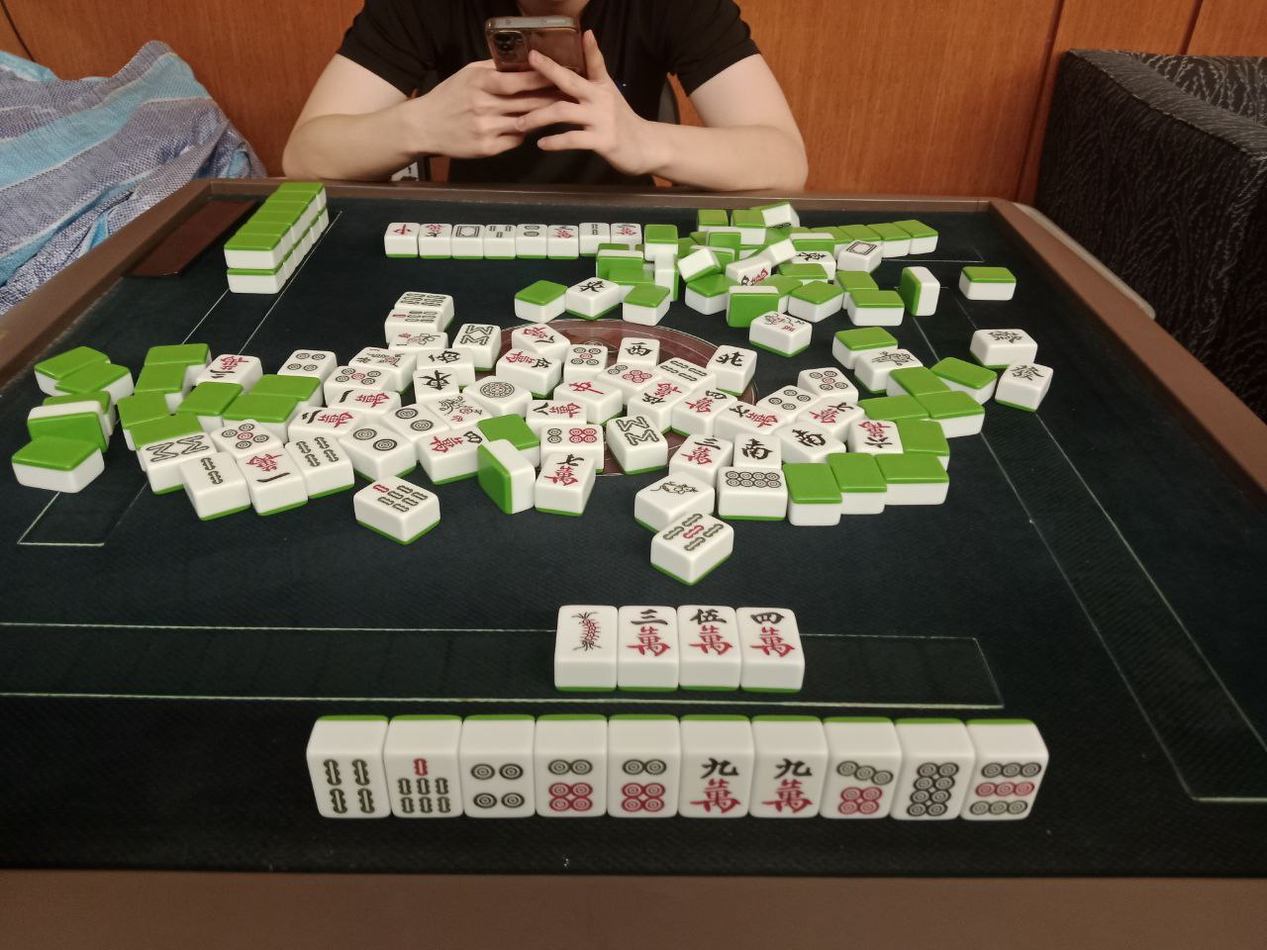TILE: (306, 753, 392, 817), (382, 751, 464, 817), (969, 753, 1046, 820), (459, 751, 536, 815), (823, 752, 899, 816), (533, 753, 608, 816), (611, 752, 682, 818), (753, 753, 826, 817), (680, 754, 753, 816), (899, 753, 967, 818), (555, 606, 618, 659), (678, 604, 738, 658), (618, 607, 679, 660), (738, 608, 799, 660)
